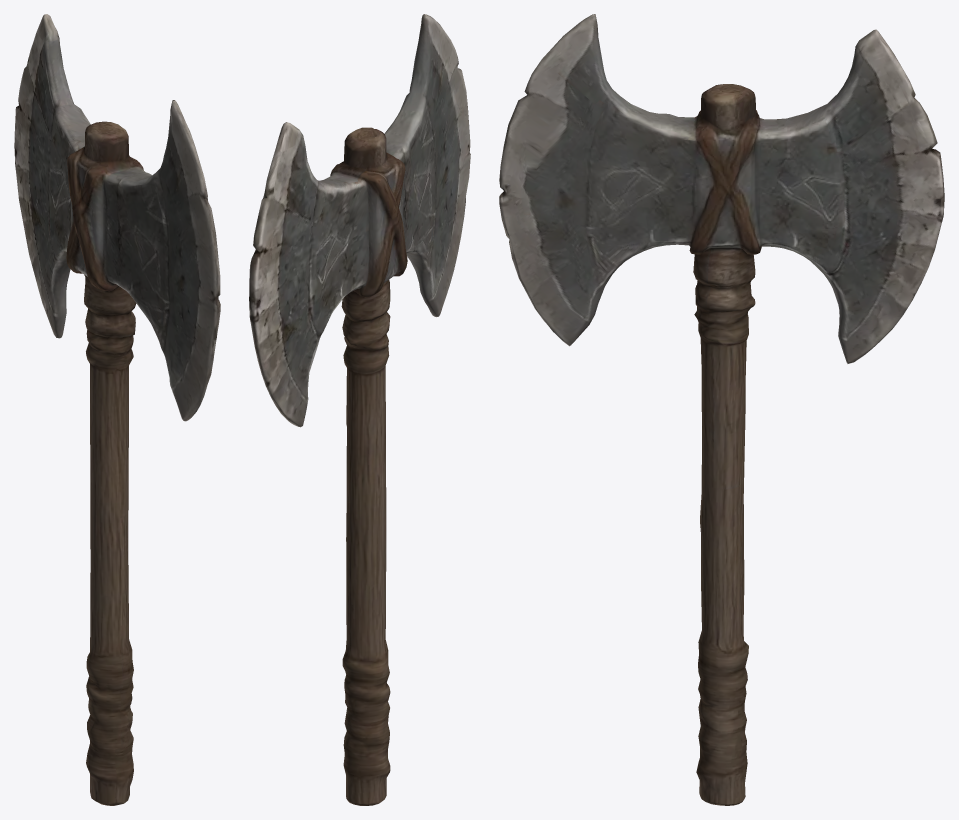
The model's file is berserker-axe.glb.
The picture shows the model from 3 angles, left to right: view 1: azimuth 30°, elevation 25°; view 2: azimuth 150°, elevation 25°; view 3: azimuth 270°, elevation 25°; orthographic projection. The views are drawn at different scales.
Parts seen in each view (by area): view 1: model; view 2: model; view 3: model.
Part boxes in pixels (x1,y1,x2,y2): model: [14, 14, 220, 805]; model: [249, 14, 470, 805]; model: [499, 14, 944, 805].
Bounding box in the file's own units: 0.0887 × 1 × 0.5137.
1 material, 1 textured.
